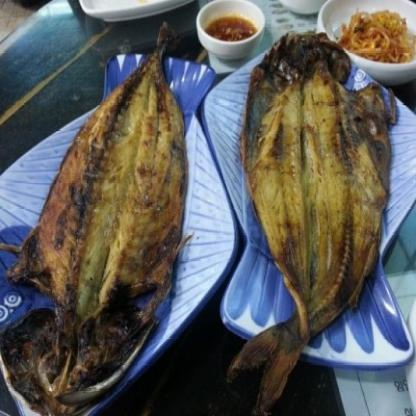Peixe: (0, 17, 186, 416), (239, 26, 393, 388)
